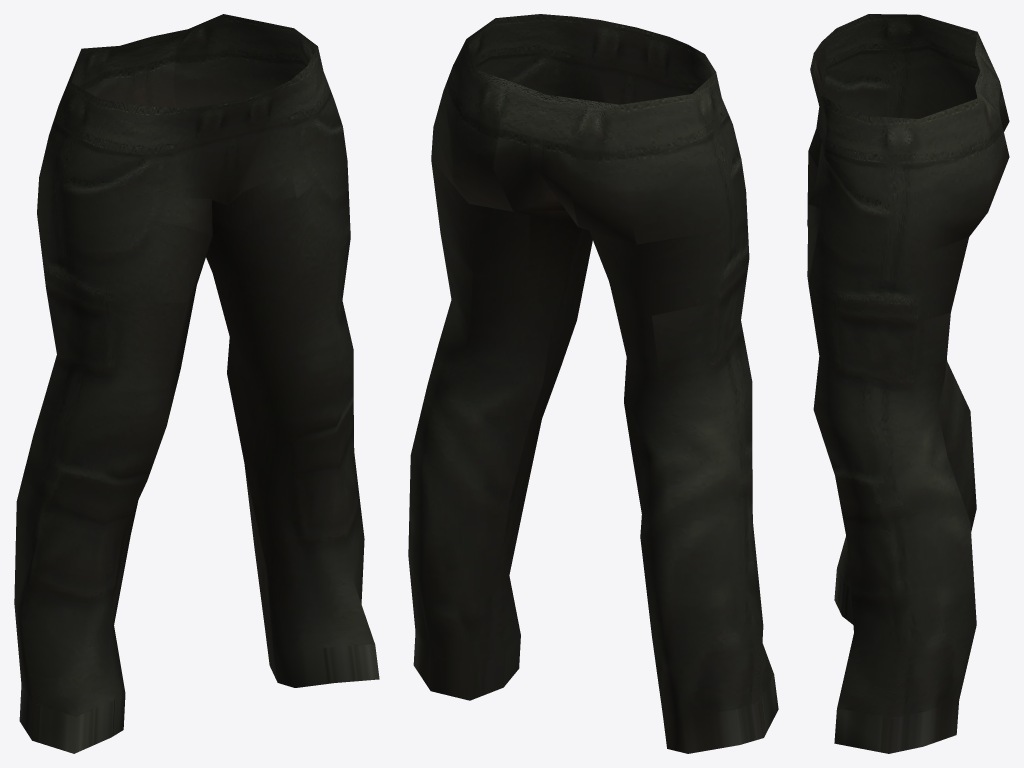
File: cortu-cargo-pants.glb
The picture shows the model from 3 angles, left to right: view 1: azimuth 30°, elevation 25°; view 2: azimuth 150°, elevation 25°; view 3: azimuth 270°, elevation 25°; orthographic projection. The views are drawn at different scales.
Visible parts, largest first — view 1: cargo pants; view 2: cargo pants; view 3: cargo pants.
Part boxes in pixels (x1,y1,x2,y2): cargo pants: (14,14,379,753); cargo pants: (408,14,778,753); cargo pants: (807,14,1009,753).
Bounding box in the file's own units: 48.27 × 86.76 × 25.68.
Materials: 1 (1 with a texture image).
